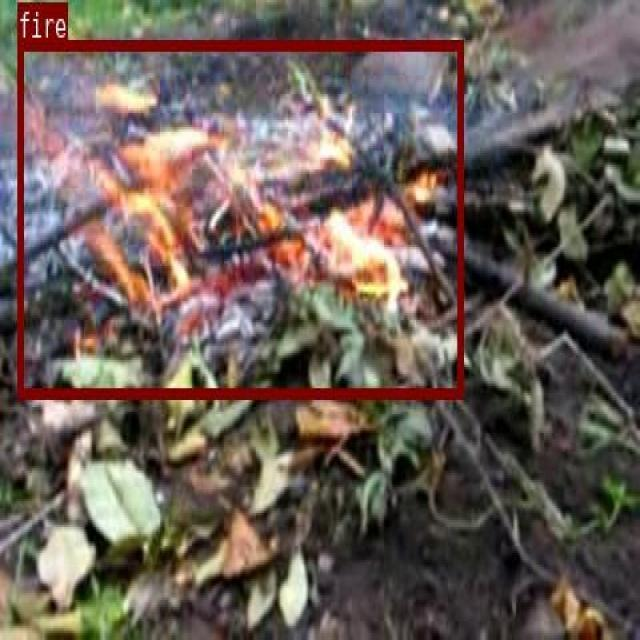fire: (17, 39, 462, 396)
